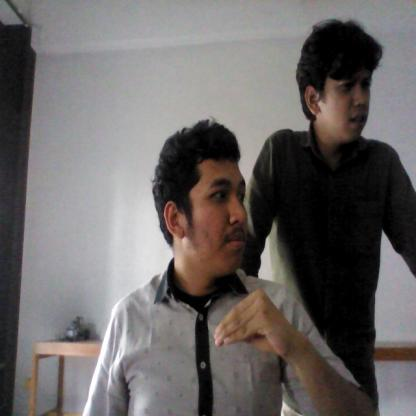Malam: (208, 286, 305, 376)
